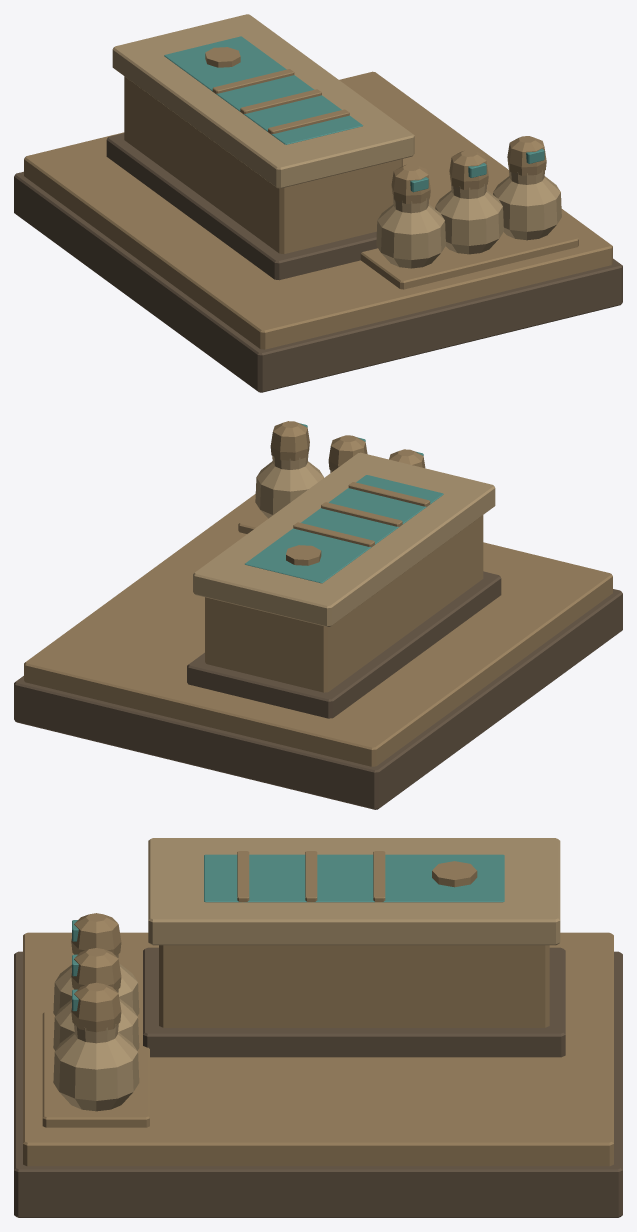
The model's file is burial-dais.glb.
3 views of the same model, one above another, from view 1: azimuth 30°, elevation 25°; view 2: azimuth 150°, elevation 25°; view 3: azimuth 270°, elevation 25° (orthographic). The views are drawn at different scales.
Parts seen in each view (by area): view 1: burial-dais__body; view 2: burial-dais__body; view 3: burial-dais__body.
Part boxes in pixels (left/top/right/bottom): burial-dais__body: left=14, top=14, right=622, bottom=392; burial-dais__body: left=14, top=421, right=622, bottom=809; burial-dais__body: left=14, top=838, right=622, bottom=1217.
Size of the model in its own units: 1.45 by 0.66 by 1.7.
